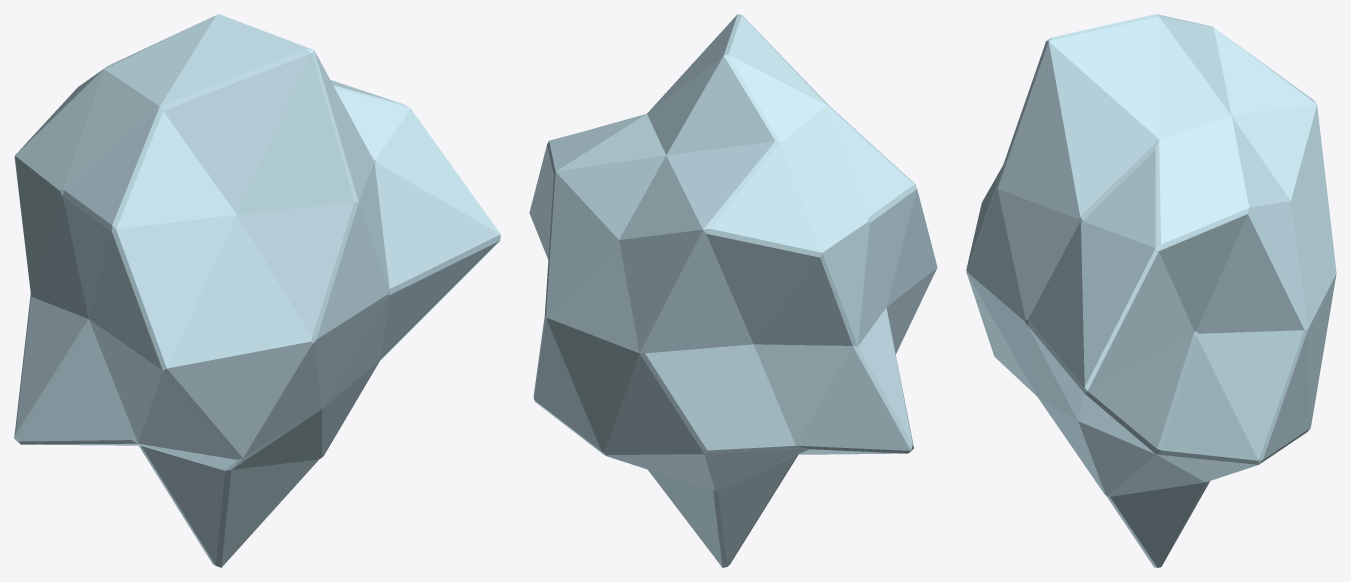
Rendered from asteroid_ice.glb.
The picture shows the model from 3 angles, left to right: view 1: azimuth 30°, elevation 25°; view 2: azimuth 150°, elevation 25°; view 3: azimuth 270°, elevation 25°; orthographic projection. The views are drawn at different scales.
Parts seen in each view (by area): view 1: Icosphere; view 2: Icosphere; view 3: Icosphere.
Boxes of the visible parts, x1,y1,x2,y2 form: Icosphere: [14, 14, 500, 567]; Icosphere: [529, 14, 937, 567]; Icosphere: [966, 14, 1336, 567].
Bounding box in the file's own units: 2.35 × 2.77 × 1.68.
